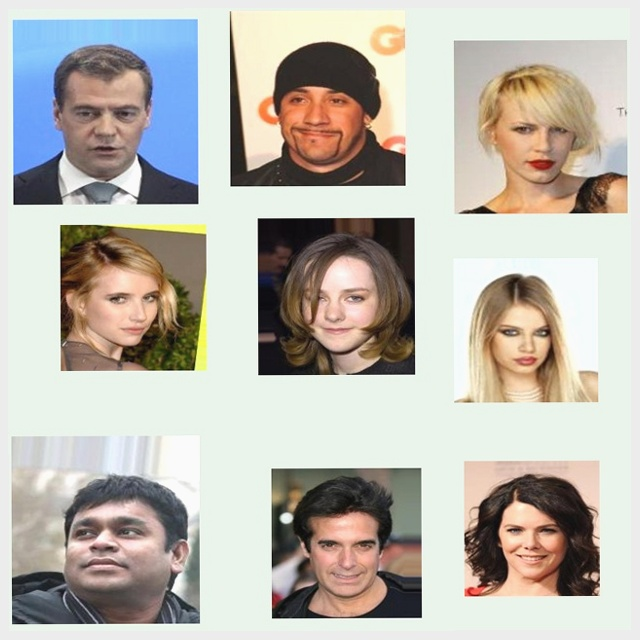celeb_10002: (454, 260, 599, 405)
celeb_2336: (270, 469, 421, 619)
celeb_2619: (15, 18, 200, 204)
celeb_2970: (61, 224, 207, 370)
celeb_3: (232, 11, 408, 187)
celeb_4422: (258, 219, 416, 376)
celeb_5695: (463, 463, 599, 598)
celeb_7: (10, 435, 199, 623)
celeb_797: (456, 42, 629, 216)
